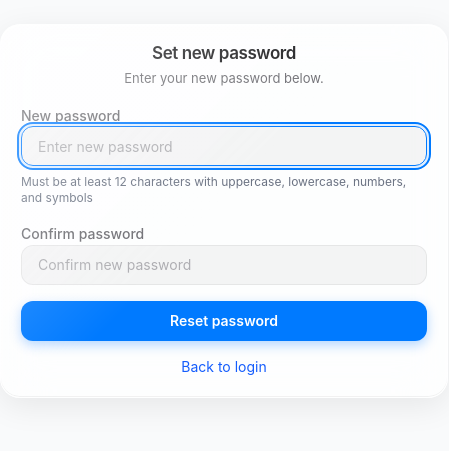
it: Reset Password Page › renders error message from action in the form
expect the heading "Set new password" is shown: met, box [152,43,296,63]
In the password field labelled "New password": (224, 146) [21,126,427,166], type "newpassword123"
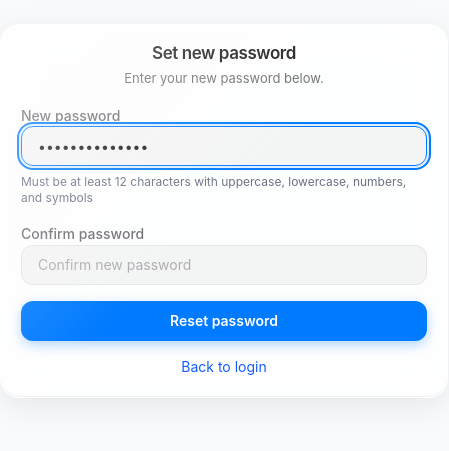
In the password field labelled "Confirm password": (224, 265) [21,245,427,285], type "newpassword123"
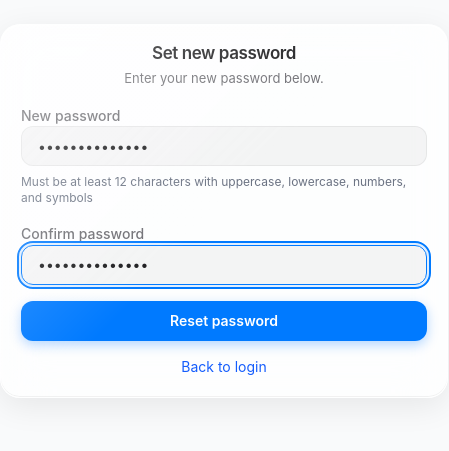
Click the button "Reset password": (224, 321) [21,301,427,341]
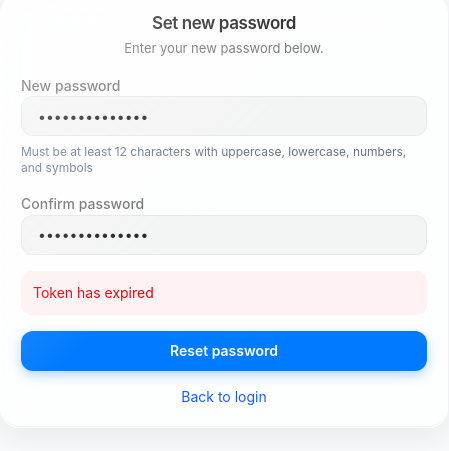
expect the text "Token has expired" is shown: met, box [21,271,427,315]
